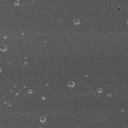corrosion: (38, 113, 47, 123), (73, 17, 81, 27), (66, 80, 76, 88), (95, 87, 104, 95), (1, 43, 8, 53), (12, 1, 22, 7), (27, 88, 33, 94), (106, 92, 112, 98), (22, 61, 29, 66), (41, 95, 46, 101)
